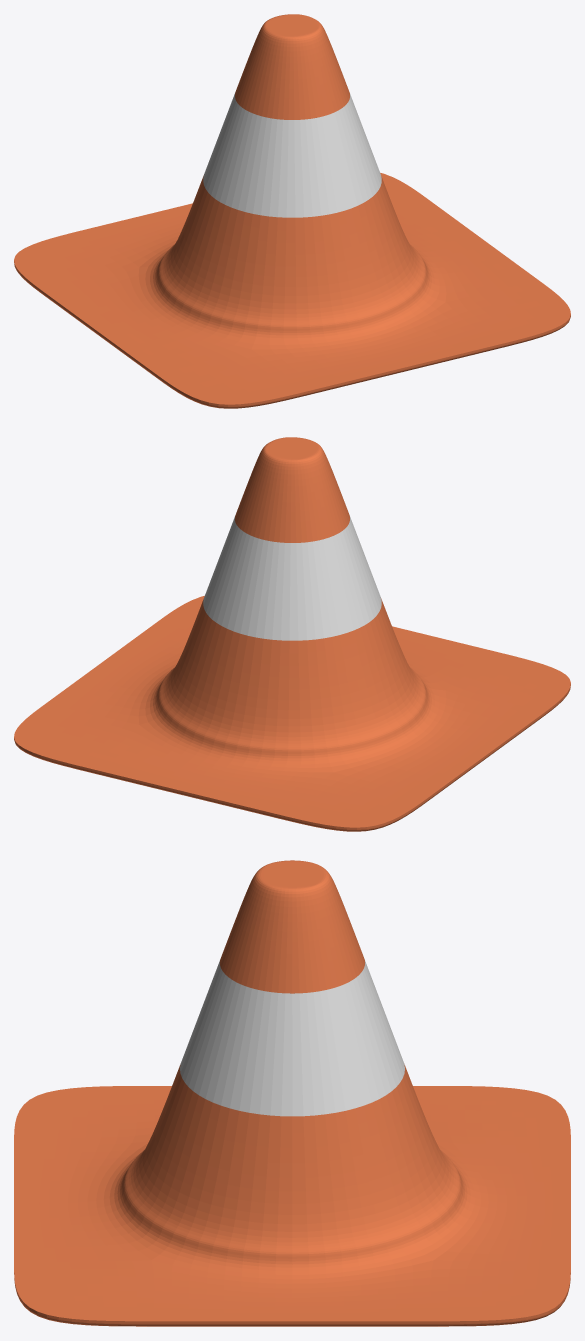
The model's file is corn.glb.
3 views of the same model, one above another, from view 1: azimuth 30°, elevation 25°; view 2: azimuth 150°, elevation 25°; view 3: azimuth 270°, elevation 25° (orthographic). The views are drawn at different scales.
Parts seen in each view (by area): view 1: Plane; view 2: Plane; view 3: Plane.
Boxes of the visible parts, <box> form: Plane: <box>14,14,570,408</box>; Plane: <box>14,437,570,831</box>; Plane: <box>14,860,570,1326</box>.
Bounding box in the file's own units: 2 × 1.35 × 2.
